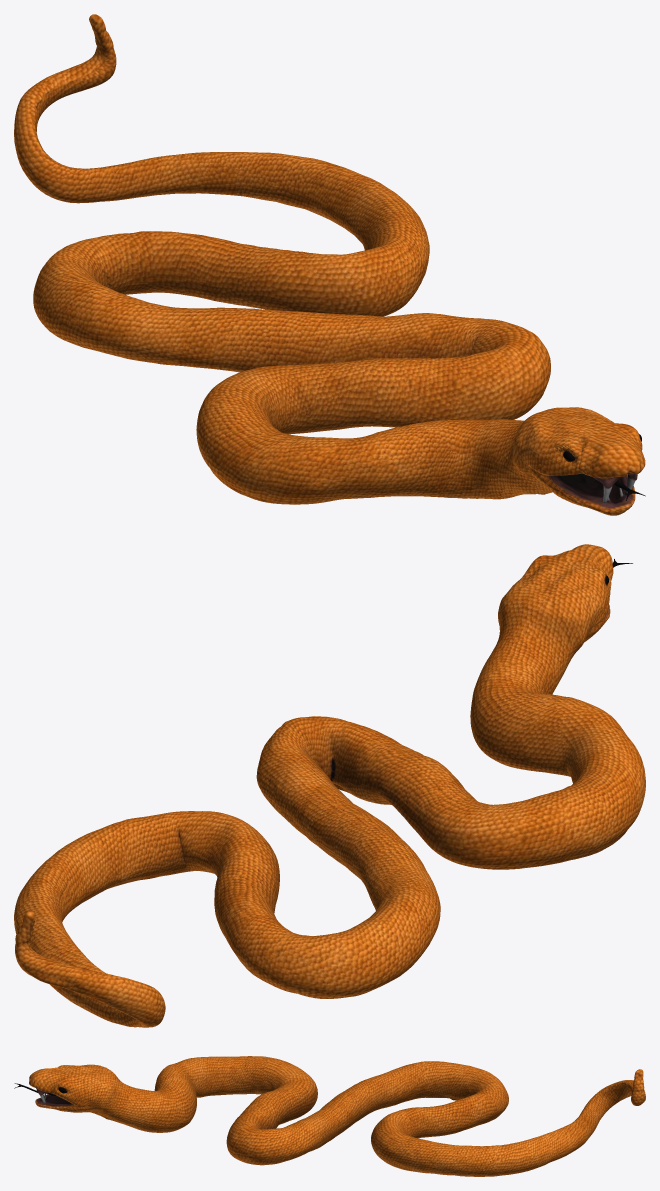
File: MZ4250 - Giant Snake 2.glb
3 views of the same model, one above another, from view 1: azimuth 30°, elevation 25°; view 2: azimuth 150°, elevation 25°; view 3: azimuth 270°, elevation 25° (orthographic). The views are drawn at different scales.
Parts seen in each view (by area): view 1: poisonous-snake-scaled; view 2: poisonous-snake-scaled; view 3: poisonous-snake-scaled.
Boxes of the visible parts, <box> form: poisonous-snake-scaled: <box>14,14,645,515</box>; poisonous-snake-scaled: <box>14,544,645,1027</box>; poisonous-snake-scaled: <box>14,1056,645,1176</box>.
Bounding box in the file's own units: 0.3752 × 0.1396 × 0.9704.
Materials: 1 (1 with a texture image).
